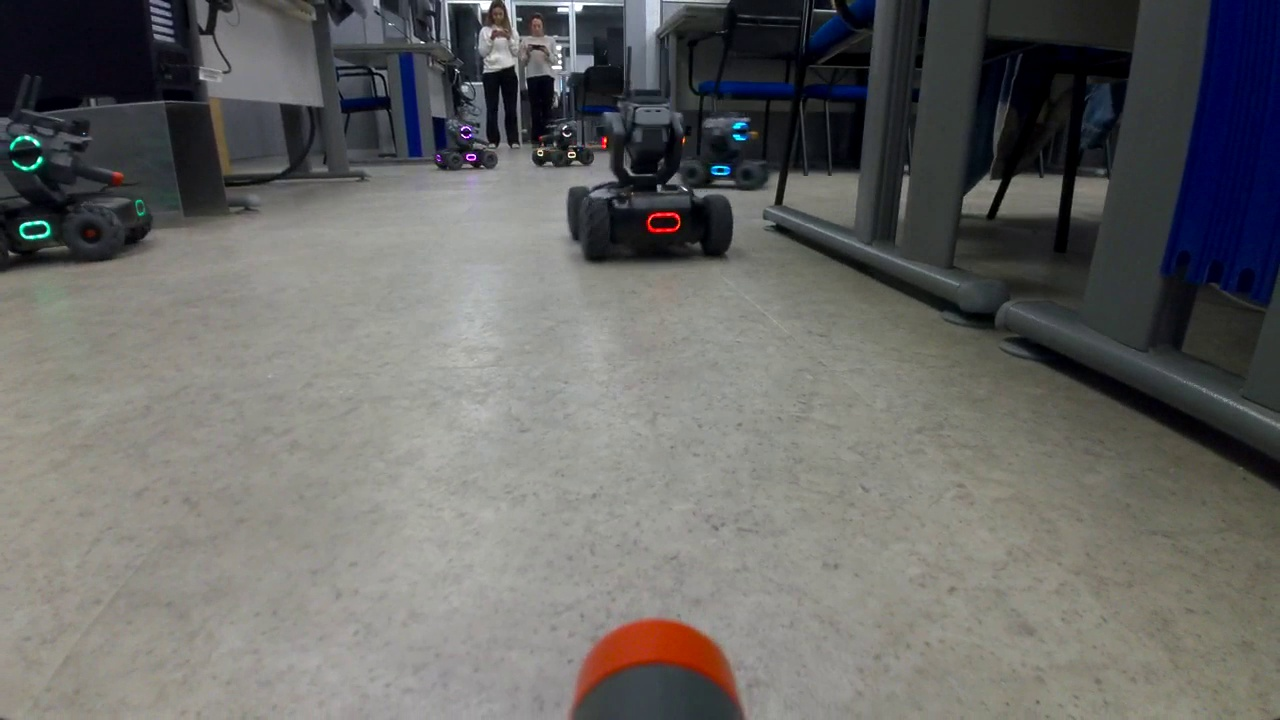robot: (565, 90, 735, 268), (2, 111, 155, 266), (682, 113, 769, 186), (429, 115, 500, 174), (529, 119, 595, 168)
